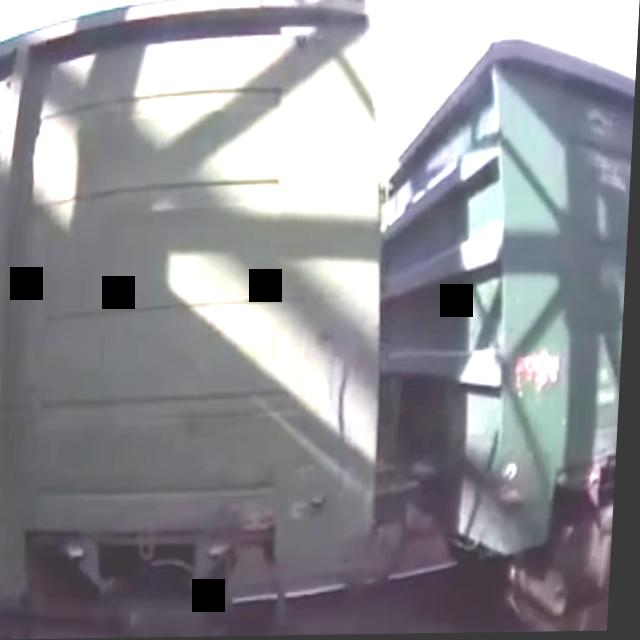gondola: (0, 0, 423, 640), (364, 24, 638, 635)
